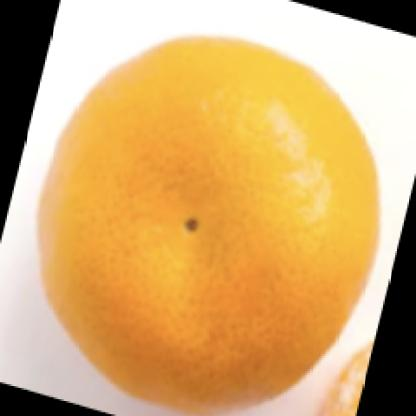fresh: (39, 37, 380, 416)
